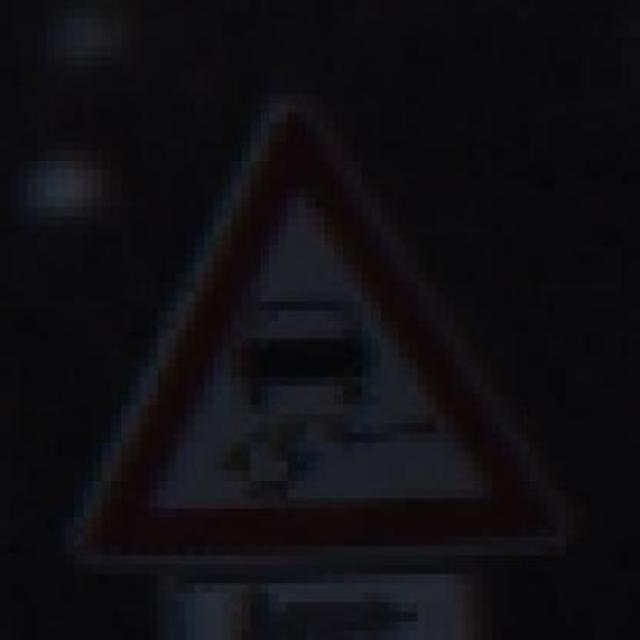Slippery Road Ahead: (65, 94, 584, 574)
